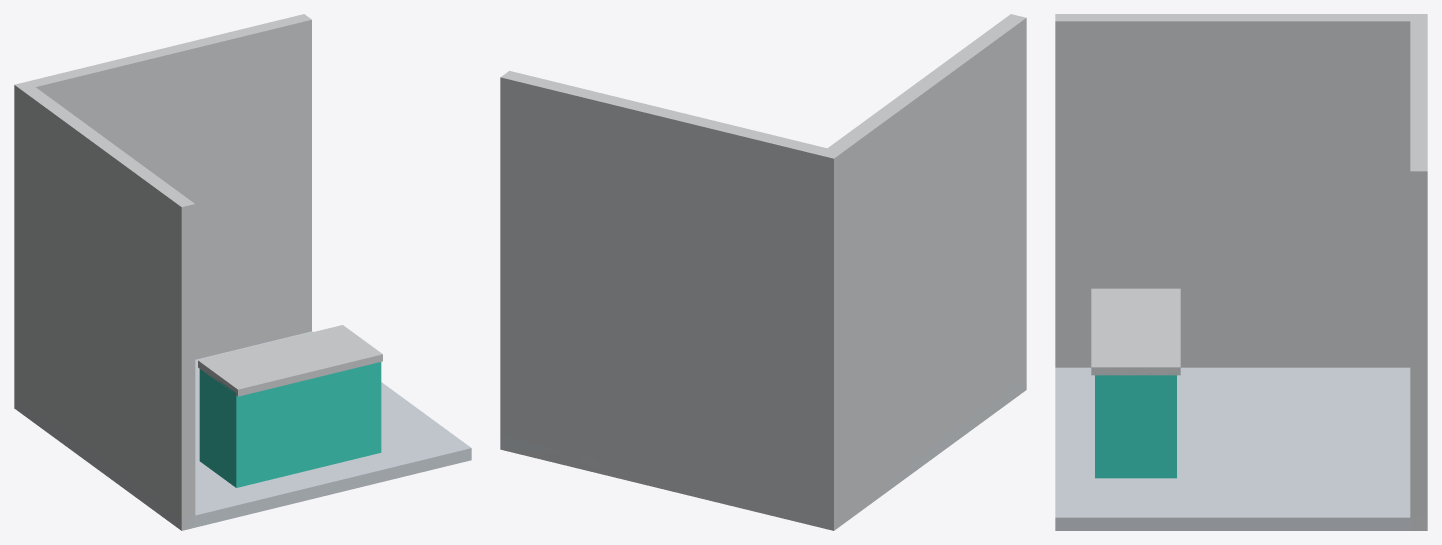
3 views of the same model, side by side, from view 1: azimuth 30°, elevation 25°; view 2: azimuth 150°, elevation 25°; view 3: azimuth 270°, elevation 25° (orthographic). The views are drawn at different scales.
Visible parts, largest first — view 1: Exhibition Booth Concept; view 2: Exhibition Booth Concept; view 3: Exhibition Booth Concept.
Part boxes in pixels (box(x1,y1,x2,y2)): Exhibition Booth Concept: box(14, 14, 471, 530); Exhibition Booth Concept: box(500, 14, 1026, 530); Exhibition Booth Concept: box(1055, 14, 1427, 530).
Size of the model in its own units: 3 by 3.2 by 3.
